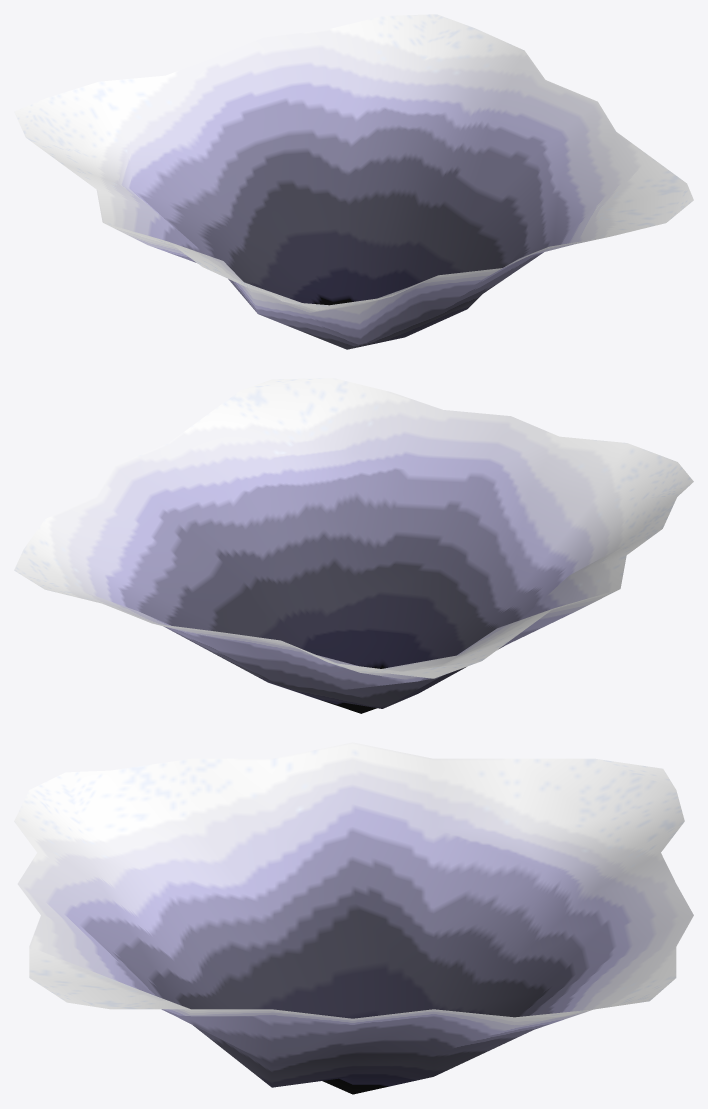
File: Massive_Hole_01.obj
The picture shows the model from 3 angles, top to bottom: view 1: azimuth 30°, elevation 25°; view 2: azimuth 150°, elevation 25°; view 3: azimuth 270°, elevation 25°; orthographic projection. The views are drawn at different scales.
Visible parts, largest first — view 1: Massive_Hole; view 2: Massive_Hole; view 3: Massive_Hole.
Boxes of the visible parts, x1,y1,x2,y2 form: Massive_Hole: (14, 14, 693, 349); Massive_Hole: (14, 378, 693, 713); Massive_Hole: (14, 742, 693, 1094).
Bounding box in the file's own units: 23.19 × 8.24 × 24.12.
